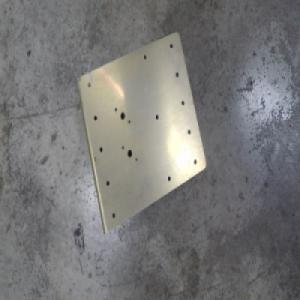MetalSheet: (74, 29, 207, 237)
